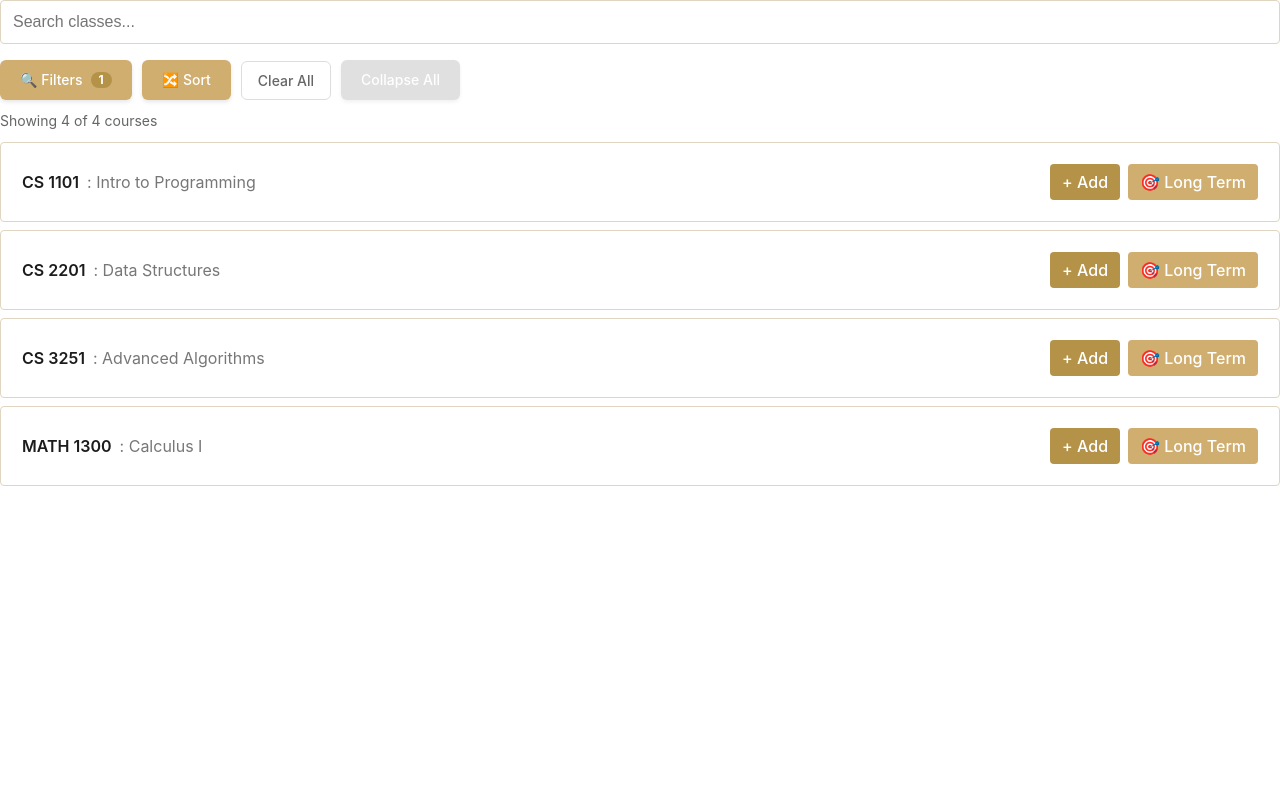
Scenario: SearchPage › Filter Functionality › closes filter modal when close button is clicked
The image size is (1280, 800).
Click the button "🔍 Filters 1" at (66, 80), box [0,60,132,100]
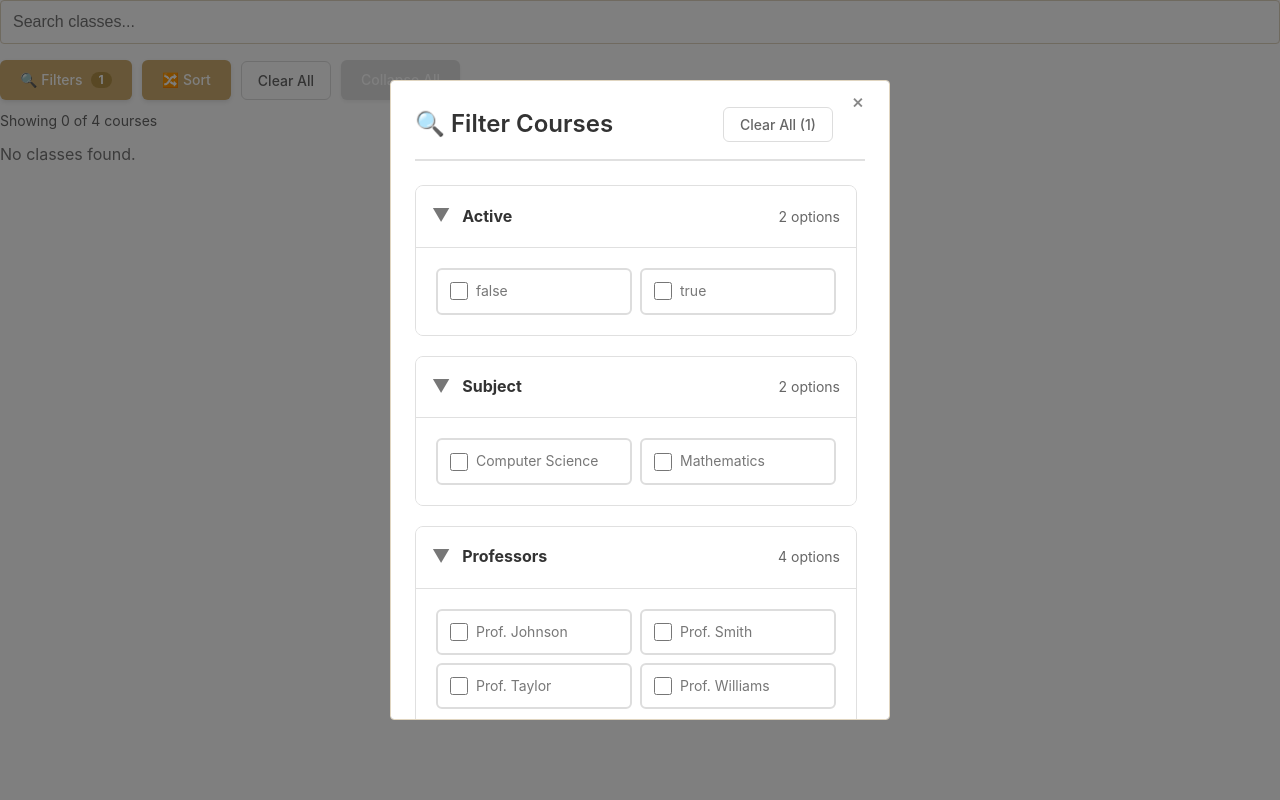
Result: the heading "🔍 Filter Courses" is shown at [415,109,613,138]
Click the button named "Close modal" at (858, 101), box [835,89,881,113]
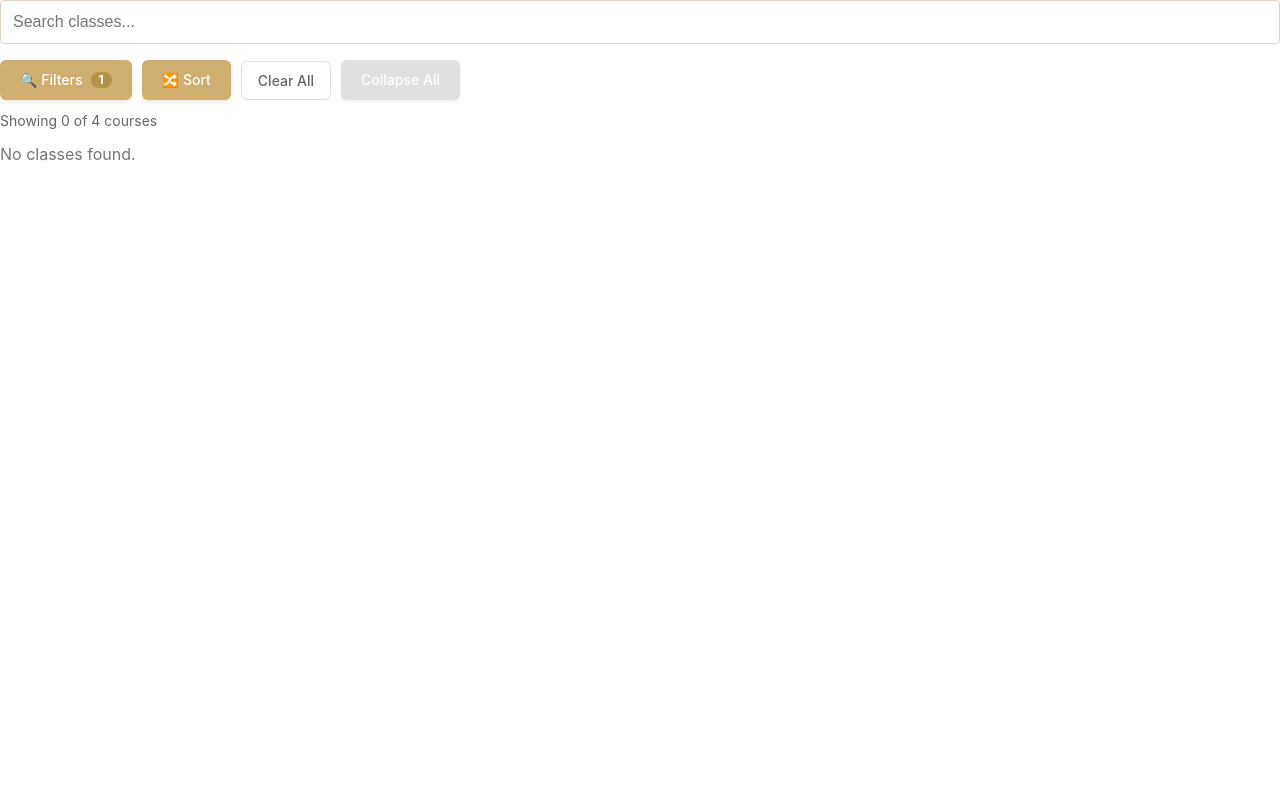
Result: the heading "🔍 Filter Courses" is gone
